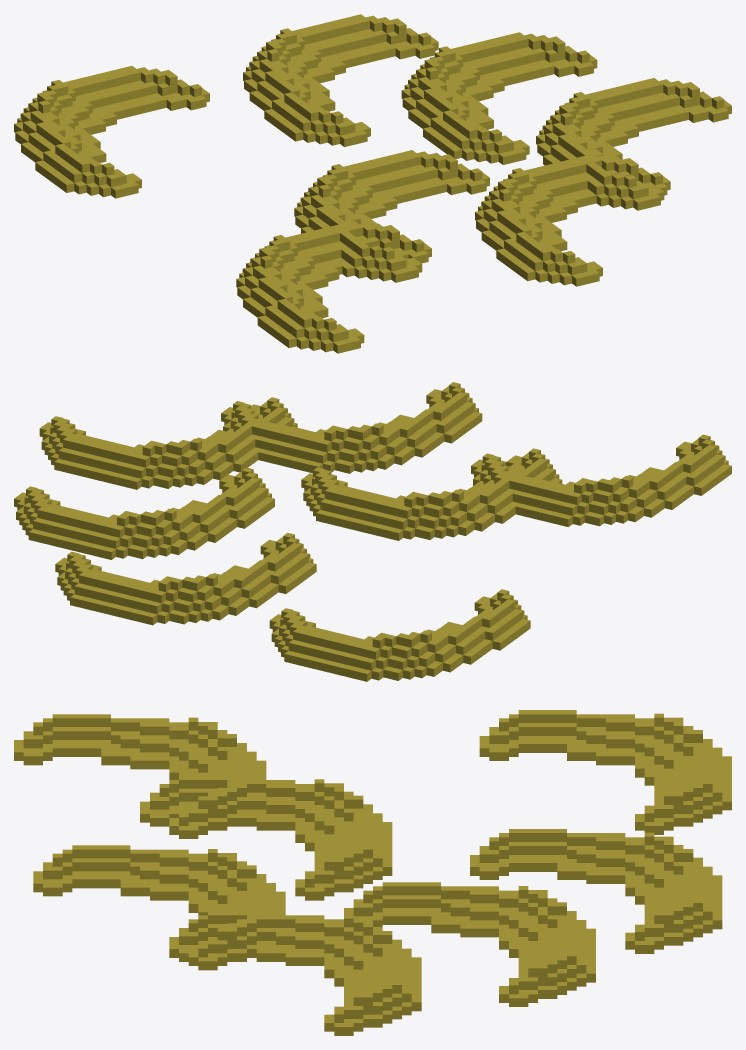
File: dunes_2_overtile.glb
3 views of the same model, one above another, from view 1: azimuth 30°, elevation 25°; view 2: azimuth 150°, elevation 25°; view 3: azimuth 270°, elevation 25° (orthographic). The views are drawn at different scales.
Parts seen in each view (by area): view 1: dunes_2_overtile; view 2: dunes_2_overtile; view 3: dunes_2_overtile.
Part boxes in pixels (<box>): dunes_2_overtile: <box>14,14,731,353</box>; dunes_2_overtile: <box>14,382,731,681</box>; dunes_2_overtile: <box>14,710,731,1035</box>.
Size of the model in its own units: 7.5 by 0.4 by 7.4.
Materials: 1 (1 with a texture image).
